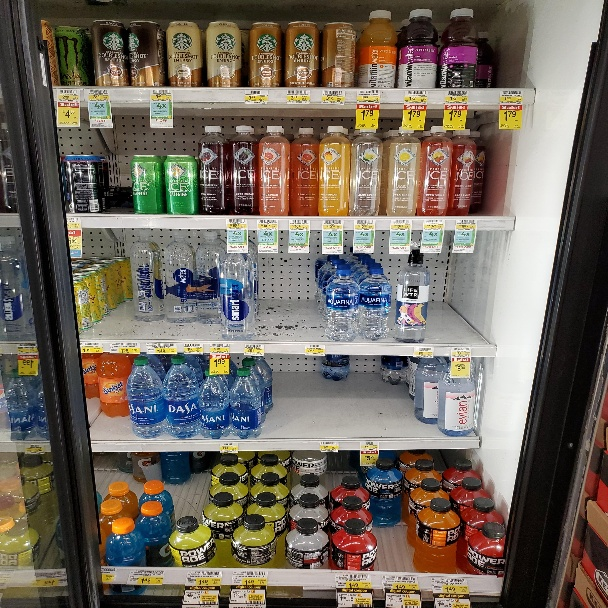All PRICE TAGS: (336, 573, 373, 588), (186, 569, 223, 584), (230, 570, 266, 585), (127, 570, 165, 584), (431, 577, 468, 591), (31, 572, 68, 586), (382, 575, 418, 589), (146, 342, 177, 355), (111, 342, 140, 353), (245, 89, 269, 102), (322, 90, 345, 102), (357, 90, 380, 101), (446, 90, 467, 102), (501, 90, 522, 102), (81, 341, 102, 353), (87, 88, 109, 99), (288, 89, 310, 100), (405, 90, 427, 101), (183, 342, 203, 354), (305, 344, 325, 356), (58, 88, 79, 99), (150, 89, 171, 100), (456, 218, 477, 229), (209, 342, 230, 353), (245, 343, 264, 355), (288, 219, 309, 229), (321, 219, 342, 229), (17, 344, 37, 354), (227, 218, 247, 228), (257, 218, 277, 228), (414, 346, 434, 356), (423, 219, 445, 228), (450, 347, 472, 356), (354, 219, 375, 228), (25, 443, 45, 452), (391, 219, 411, 228), (220, 442, 238, 450), (320, 441, 338, 449), (361, 441, 378, 449), (68, 217, 80, 228)
